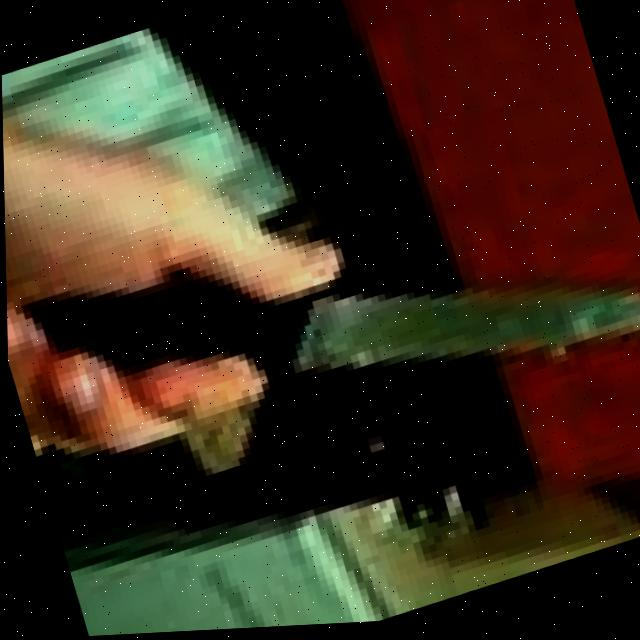knife: (298, 190, 640, 457)
